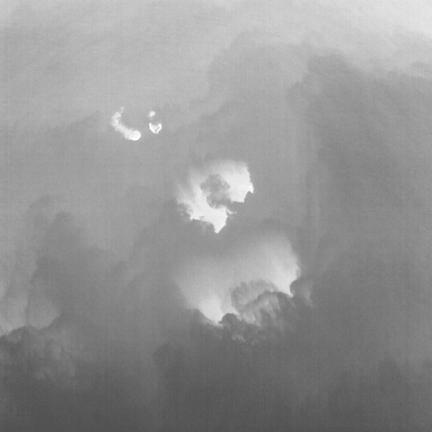flukeprints: (176, 184, 232, 233), (220, 165, 253, 202), (198, 295, 227, 321), (148, 122, 161, 133), (129, 130, 140, 140)
